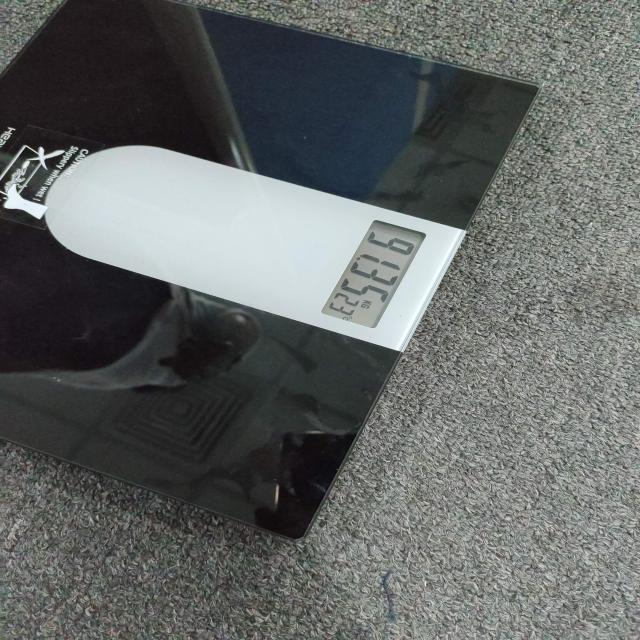ws: (0, 0, 537, 542)
